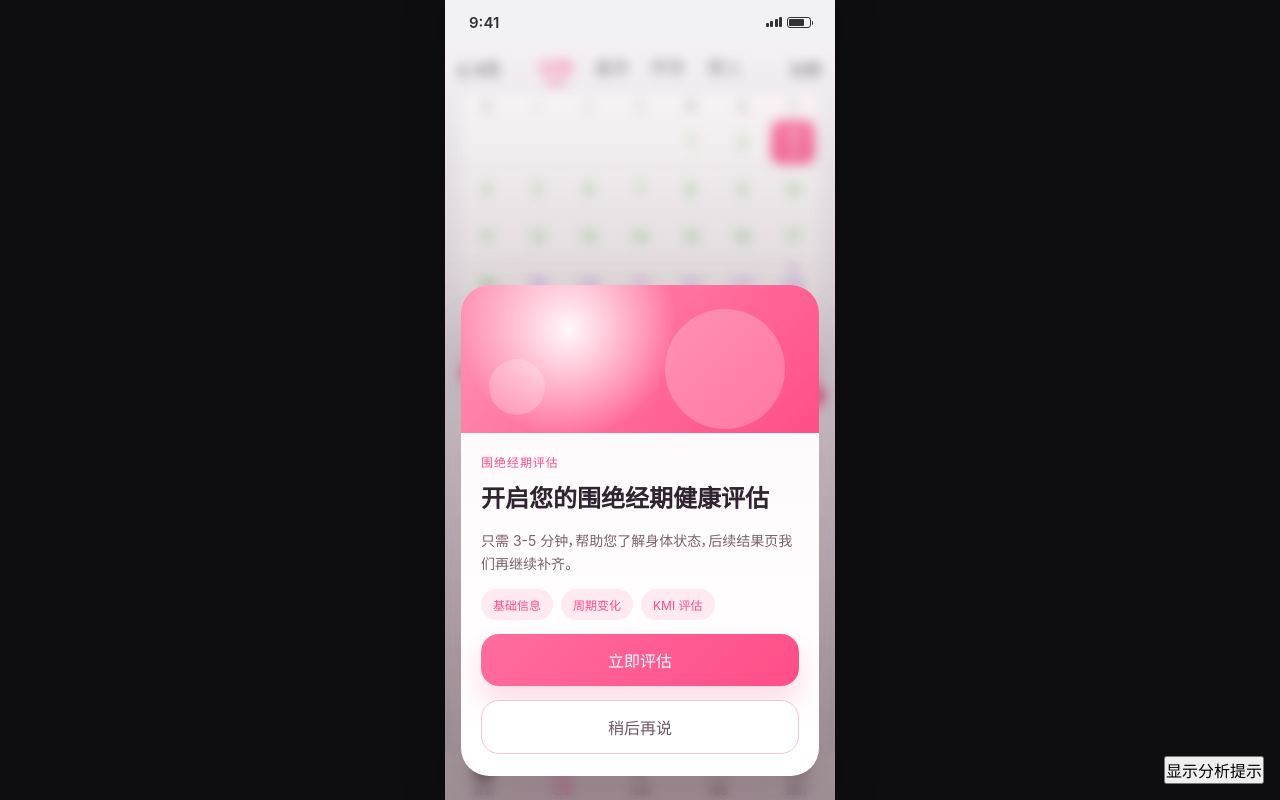
scene1 tabbar fidelity › routes the 点滴 tab to /scene2
Click the button "稍后再说".
click(640, 727)  # box [481,700,799,754]
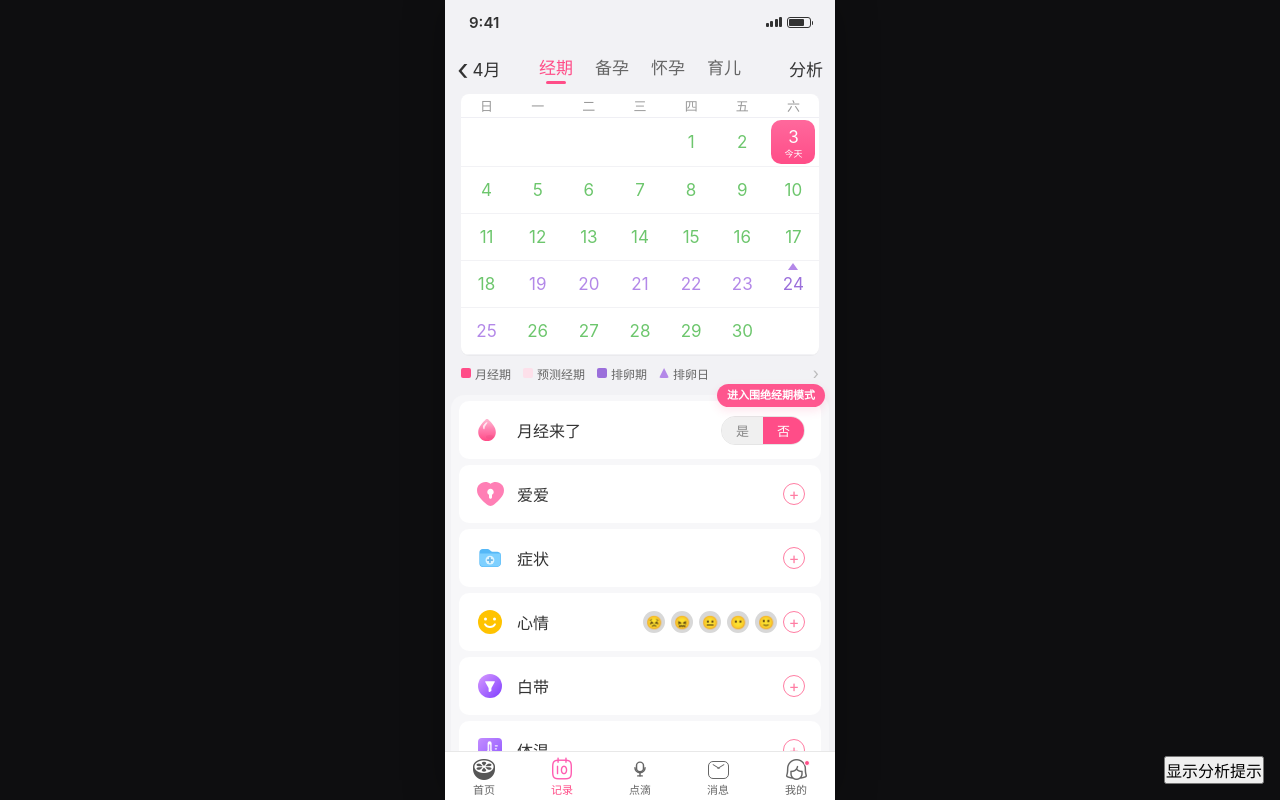
Click the button "点滴".
click(640, 776)  # box [601,752,679,799]
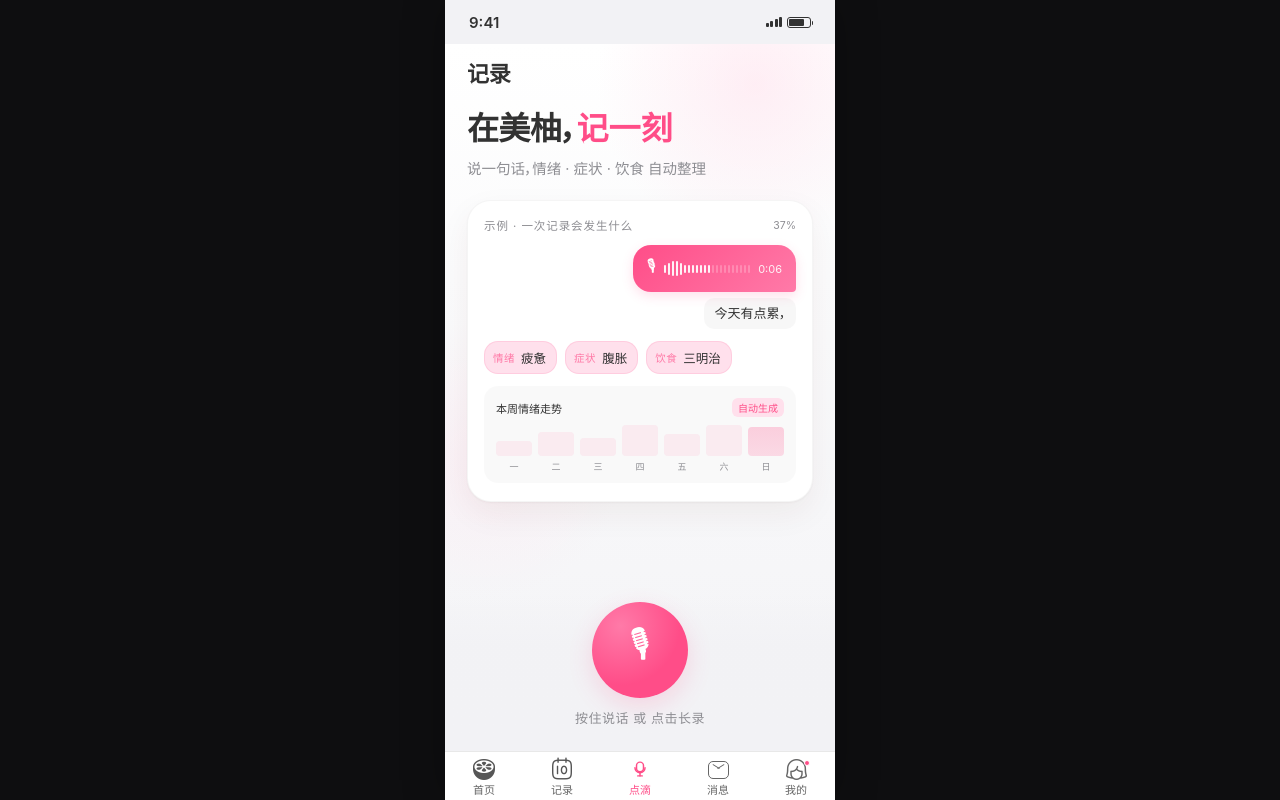
Check: the element with test id "scene2-shell" is shown, box [445,0,835,799]
Check: the element with test id "scene2-hero" is shown, box [467,109,706,177]
